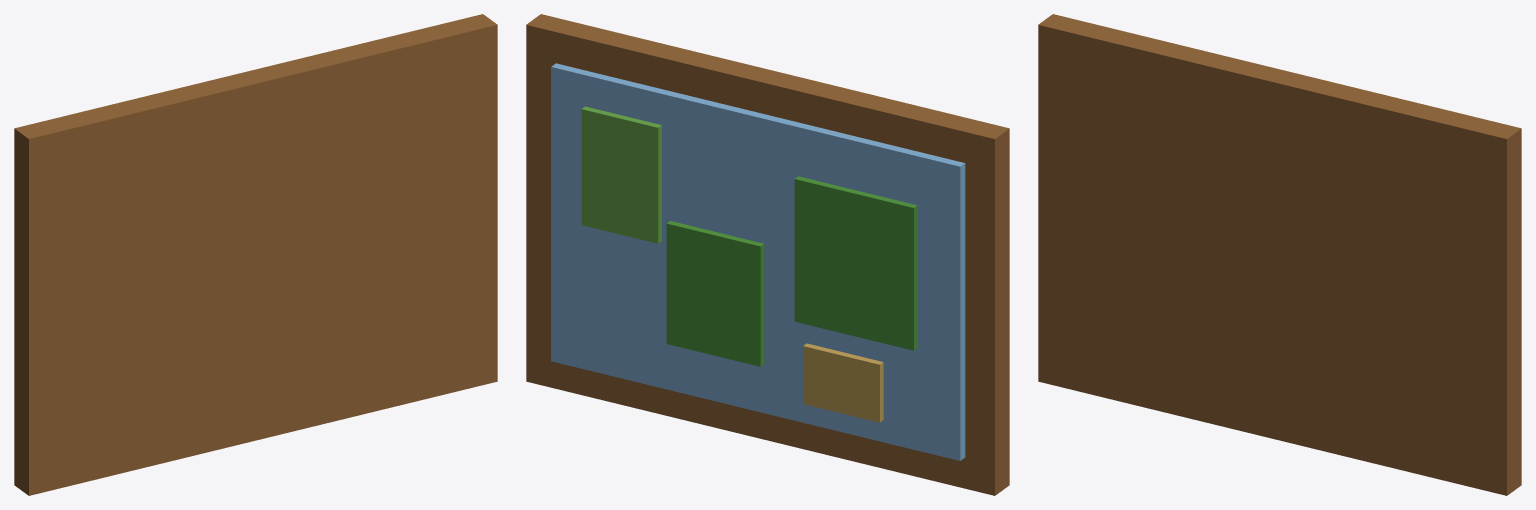
The model's file is th-poster-map.glb.
The picture shows the model from 3 angles, left to right: view 1: azimuth 30°, elevation 25°; view 2: azimuth 150°, elevation 25°; view 3: azimuth 330°, elevation 25°; orthographic projection.
Visible parts, largest first — view 1: box-prop; view 2: box-prop; view 3: box-prop.
Part boxes in pixels (bbox=[...]): box-prop: bbox=[14, 14, 497, 495]; box-prop: bbox=[526, 14, 1009, 495]; box-prop: bbox=[1038, 14, 1521, 495].
Bounding box in the file's own units: 1.1 × 0.8 × 0.095.
